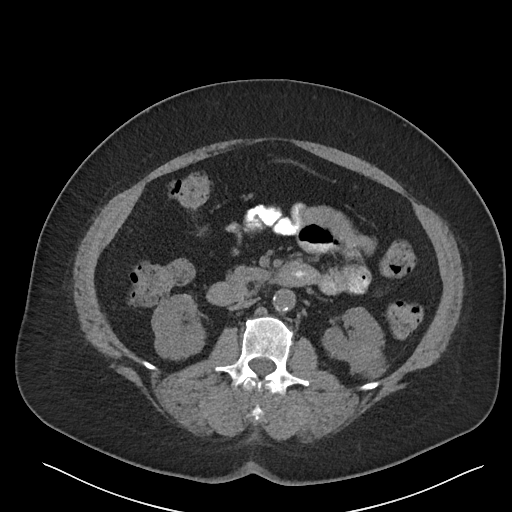Lesion: (345, 344, 391, 380)
